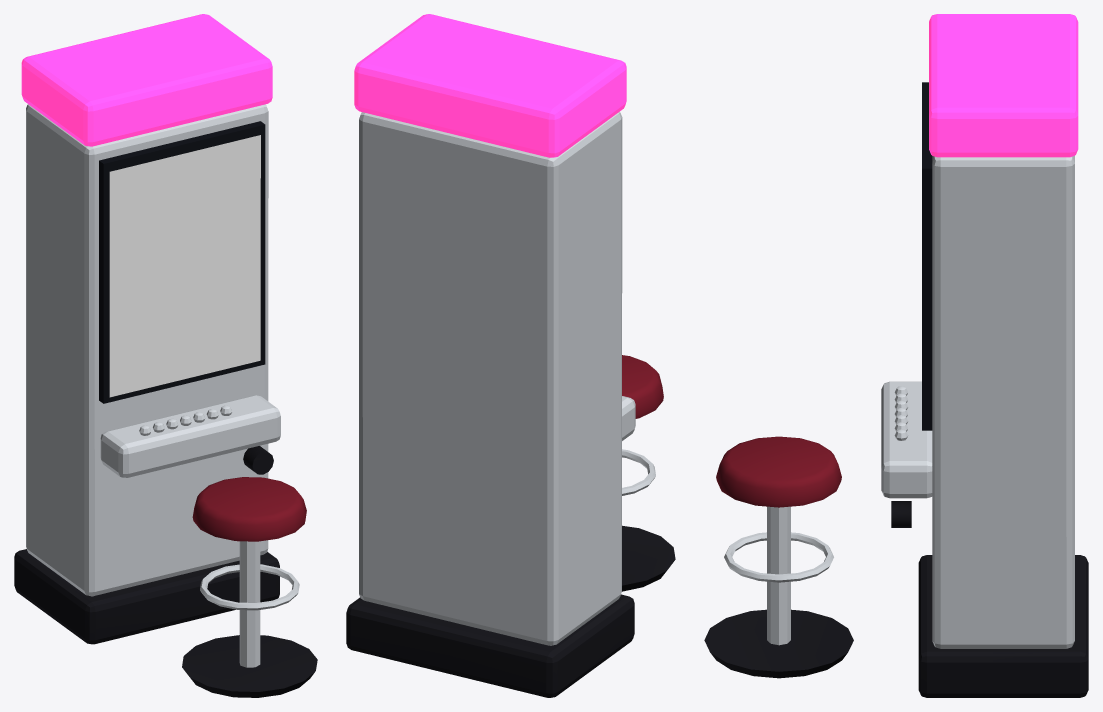
Rendered from pachinko.glb.
3 renders of one model, left to right at view 1: azimuth 30°, elevation 25°; view 2: azimuth 150°, elevation 25°; view 3: azimuth 270°, elevation 25°, orthographic. The views are drawn at different scales.
Parts seen in each view (by area): view 1: pachinko_lod0; view 2: pachinko_lod0; view 3: pachinko_lod0.
Boxes of the visible parts, x1=… form: pachinko_lod0: x1=14, y1=14, x2=317, y2=697; pachinko_lod0: x1=346, y1=14, x2=675, y2=697; pachinko_lod0: x1=704, y1=14, x2=1088, y2=697.
Size of what is drawn, in the model's own units: 0.7198 by 1.91 by 1.13.
